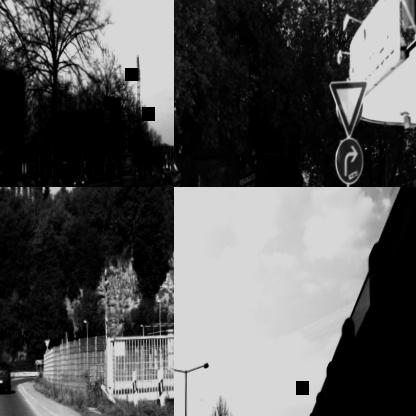give way: (327, 80, 368, 138), (44, 338, 50, 349)
go right or straight: (334, 136, 363, 184)
speed limit 50: (100, 106, 112, 126)
